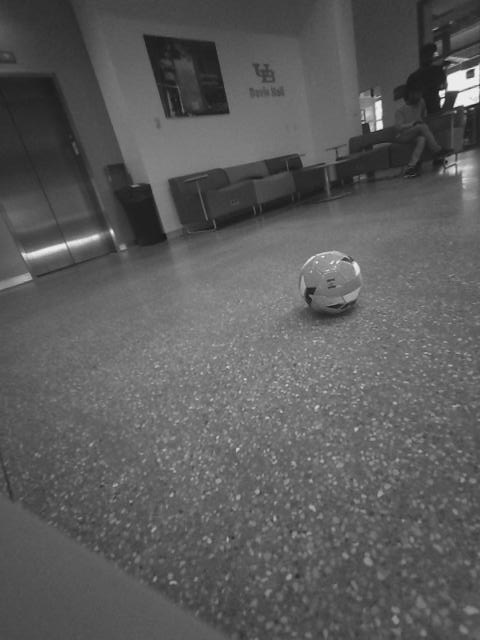ball: (291, 247, 366, 320)
